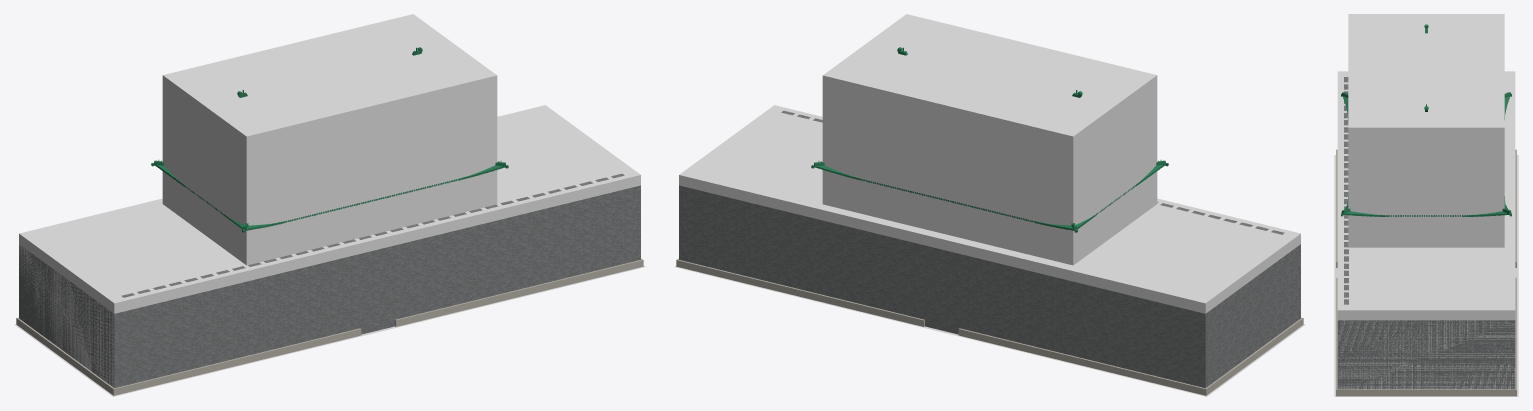
File: zhengyangmen.glb
3 views of the same model, side by side, from view 1: azimuth 30°, elevation 25°; view 2: azimuth 150°, elevation 25°; view 3: azimuth 270°, elevation 25° (orthographic). The views are drawn at different scales.
Visible parts, largest first — view 1: COL_tower, Massing, COL_pierW, COL_pierE, GateTower, FOOTPRINT_gate; view 2: COL_tower, Massing, COL_pierW, COL_pierE, GateTower, FOOTPRINT_gate, COL_lintel; view 3: COL_tower, COL_pierE, Massing, GateTower, COL_pierW, FOOTPRINT_gate, COL_lintel.
Boxes of the visible parts, <box> form: COL_tower: <box>162,14,497,265</box>; Massing: <box>19,165,640,388</box>; COL_pierW: <box>19,198,360,387</box>; COL_pierE: <box>390,105,640,245</box>; GateTower: <box>16,47,643,395</box>; FOOTPRINT_gate: <box>14,265,645,396</box>; COL_tower: <box>822,14,1157,265</box>; Massing: <box>679,165,1300,388</box>; COL_pierW: <box>959,198,1300,313</box>; COL_pierE: <box>679,105,929,245</box>; GateTower: <box>676,47,1303,395</box>; FOOTPRINT_gate: <box>674,265,1305,396</box>; COL_lintel: <box>925,230,964,253</box>; COL_tower: <box>1348,14,1504,247</box>; COL_pierE: <box>1337,198,1515,389</box>; Massing: <box>1337,96,1515,389</box>; GateTower: <box>1336,24,1516,396</box>; COL_pierW: <box>1337,71,1515,182</box>; FOOTPRINT_gate: <box>1334,155,1518,396</box>; COL_lintel: <box>1337,183,1515,198</box>.
Size of the model in its own units: 101 by 41.15 by 32.6.
Materials: 12 (4 with a texture image).
